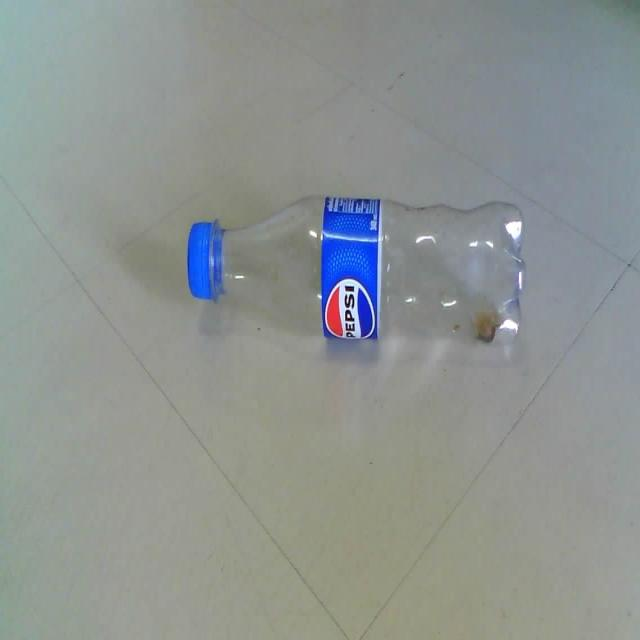empty: (187, 196, 524, 348)
